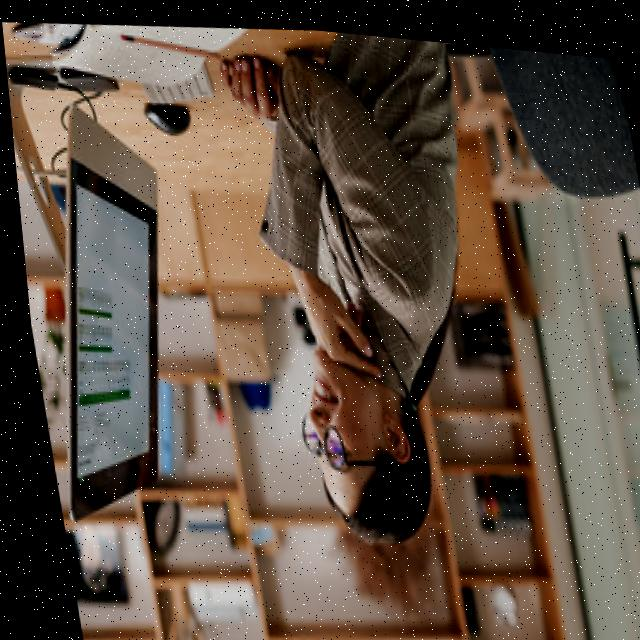desktop-person: (0, 0, 555, 595)
